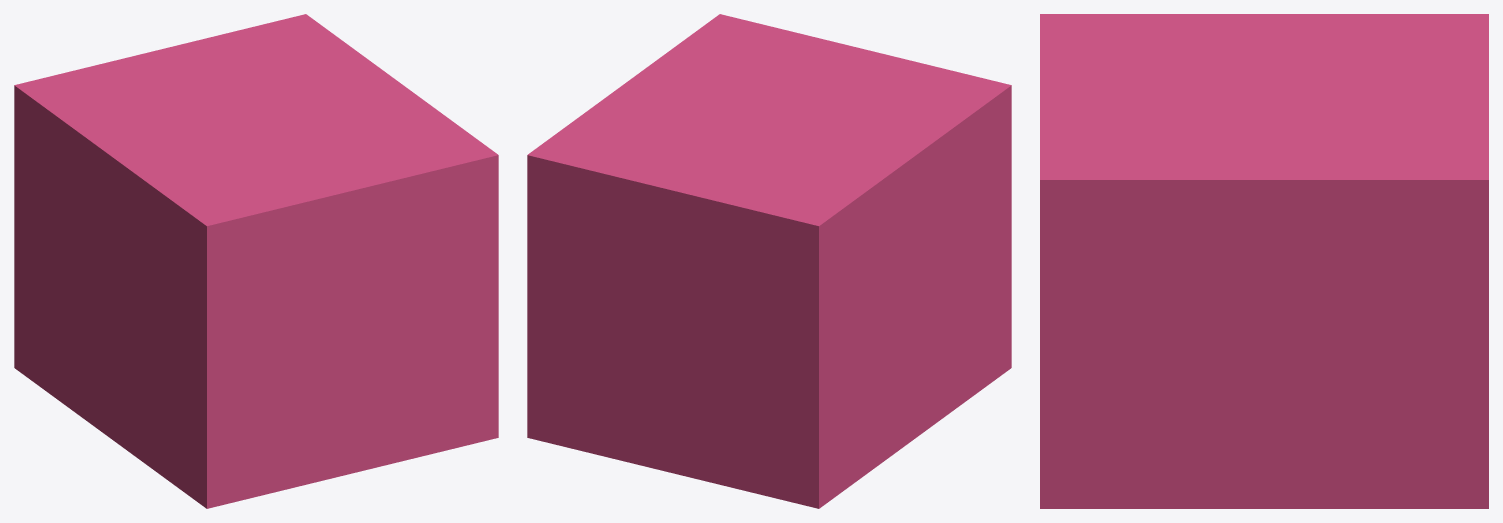
The model's file is cherry_blossom.DAE.
The picture shows the model from 3 angles, left to right: view 1: azimuth 30°, elevation 25°; view 2: azimuth 150°, elevation 25°; view 3: azimuth 270°, elevation 25°; orthographic projection. The views are drawn at different scales.
Visible parts, largest first — view 1: bounds; view 2: bounds; view 3: bounds.
Part boxes in pixels (x1,y1,x2,y2): bounds: (14, 14, 498, 508); bounds: (527, 14, 1011, 508); bounds: (1040, 14, 1488, 508).
Size of the model in its own units: 767 by 877 by 710.
